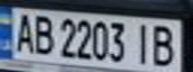0: (90, 17, 112, 62)
2: (54, 15, 78, 60), (72, 16, 93, 61)
3: (109, 18, 130, 64)
A: (9, 10, 36, 54)
B: (148, 21, 181, 69), (30, 11, 57, 56)
I: (130, 20, 157, 65)
